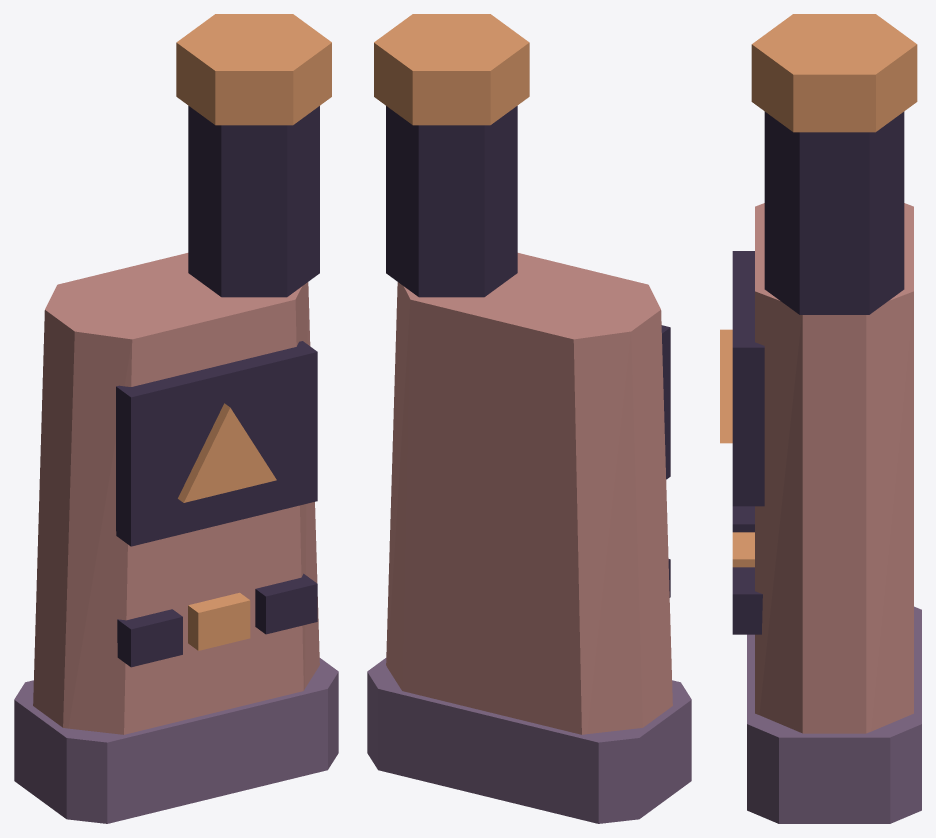
The model's file is dosimeter.obj.
The picture shows the model from 3 angles, left to right: view 1: azimuth 30°, elevation 25°; view 2: azimuth 150°, elevation 25°; view 3: azimuth 270°, elevation 25°; orthographic projection. The views are drawn at different scales.
Visible parts, largest first — view 1: dosimeter_dusty_rose, dosimeter_deep_purple, dosimeter_mauve, dosimeter_warm_orange; view 2: dosimeter_dusty_rose, dosimeter_mauve, dosimeter_deep_purple, dosimeter_warm_orange; view 3: dosimeter_dusty_rose, dosimeter_deep_purple, dosimeter_warm_orange, dosimeter_mauve.
Boxes of the visible parts, x1,y1,x2,y2 form: dosimeter_dusty_rose: (33, 253, 319, 734); dosimeter_deep_purple: (116, 106, 319, 667); dosimeter_mauve: (14, 658, 338, 823); dosimeter_warm_orange: (176, 14, 331, 650); dosimeter_dusty_rose: (386, 253, 672, 734); dosimeter_mauve: (367, 658, 691, 823); dosimeter_deep_purple: (386, 106, 670, 597); dosimeter_warm_orange: (374, 14, 529, 125); dosimeter_dusty_rose: (755, 203, 913, 733); dosimeter_deep_purple: (732, 111, 904, 634); dosimeter_warm_orange: (720, 14, 917, 567); dosimeter_mauve: (747, 606, 921, 823).
Size of the model in its own units: 0.105 by 0.26 by 0.0635.
